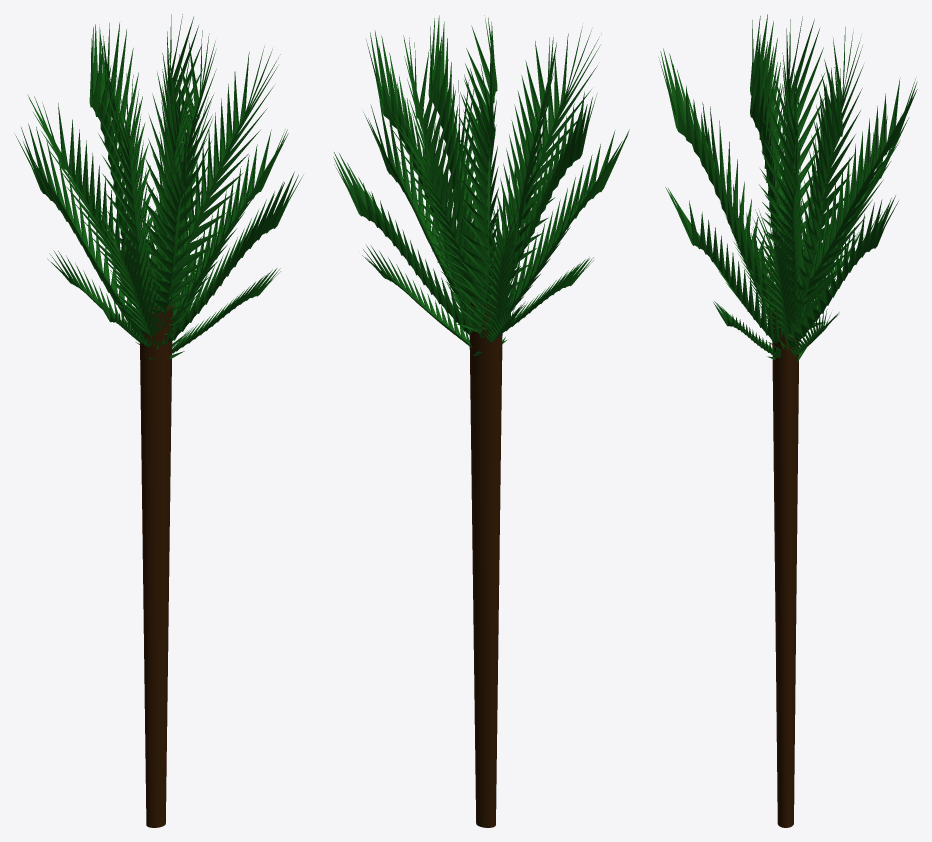
Rendered from palma pita.glb.
3 renders of one model, left to right at view 1: azimuth 30°, elevation 25°; view 2: azimuth 150°, elevation 25°; view 3: azimuth 270°, elevation 25°, orthographic.
Visible parts, largest first — view 1: Cylinder; view 2: Cylinder; view 3: Cylinder.
Boxes of the visible parts, box(x1,y1,x2,y2) form: Cylinder: box(14, 14, 303, 827); Cylinder: box(333, 15, 629, 827); Cylinder: box(658, 14, 917, 827).
Size of the model in its own units: 7.11 by 22.13 by 6.63.
